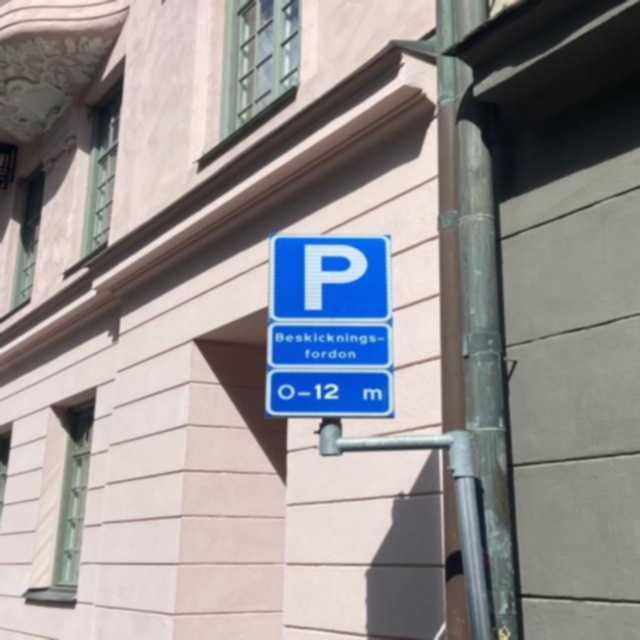P-skylt: (269, 233, 392, 324)
